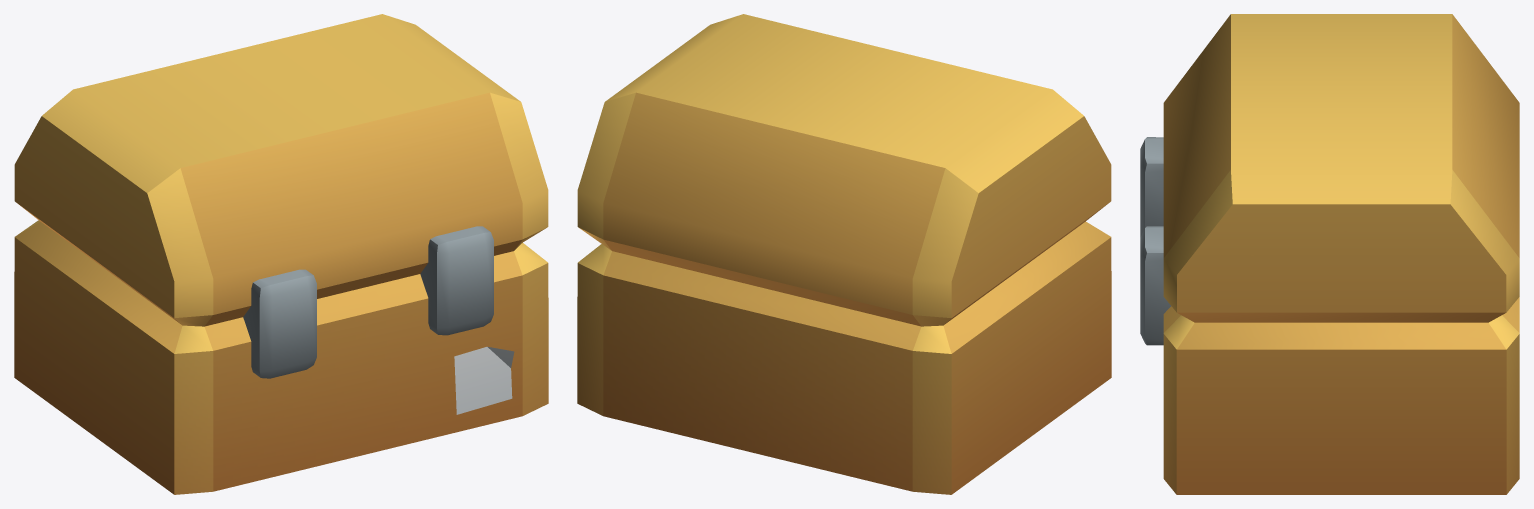
Rendered from ammo_crate.gltf.
3 views of the same model, side by side, from view 1: azimuth 30°, elevation 25°; view 2: azimuth 150°, elevation 25°; view 3: azimuth 270°, elevation 25° (orthographic). The views are drawn at different scales.
Visible parts, largest first — view 1: ammo_crate; view 2: ammo_crate; view 3: ammo_crate.
Boxes of the visible parts, x1,y1,x2,y2 form: ammo_crate: [14, 14, 548, 494]; ammo_crate: [577, 14, 1111, 494]; ammo_crate: [1140, 14, 1519, 494].
Size of the model in its own units: 0.575 by 0.46 by 0.4901.
Materials: 1 (1 with a texture image).
